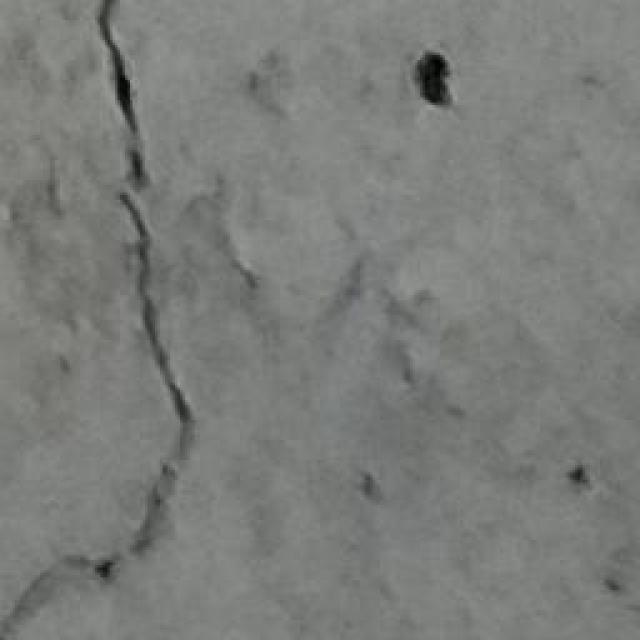Longitudinal: (4, 0, 243, 640)
